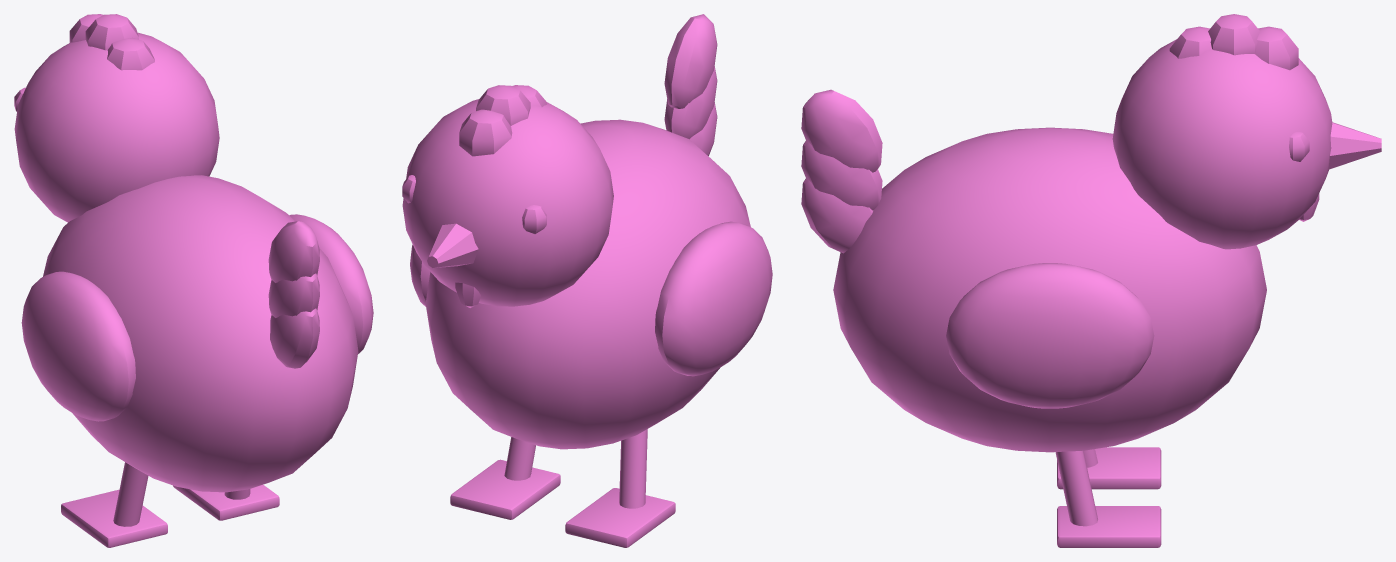
The model's file is Parcel_Chicken.fbx.
The picture shows the model from 3 angles, left to right: view 1: azimuth 30°, elevation 25°; view 2: azimuth 150°, elevation 25°; view 3: azimuth 270°, elevation 25°; orthographic projection. The views are drawn at different scales.
Parts seen in each view (by area): view 1: Parcel; view 2: Parcel; view 3: Parcel.
Boxes of the visible parts, x1=… form: Parcel: x1=14, y1=14, x2=373, y2=547; Parcel: x1=402, y1=14, x2=772, y2=547; Parcel: x1=801, y1=14, x2=1381, y2=547.
Bounding box in the file's own units: 1.08 × 1.55 × 1.67.
Materials: 1 (1 with a texture image).
